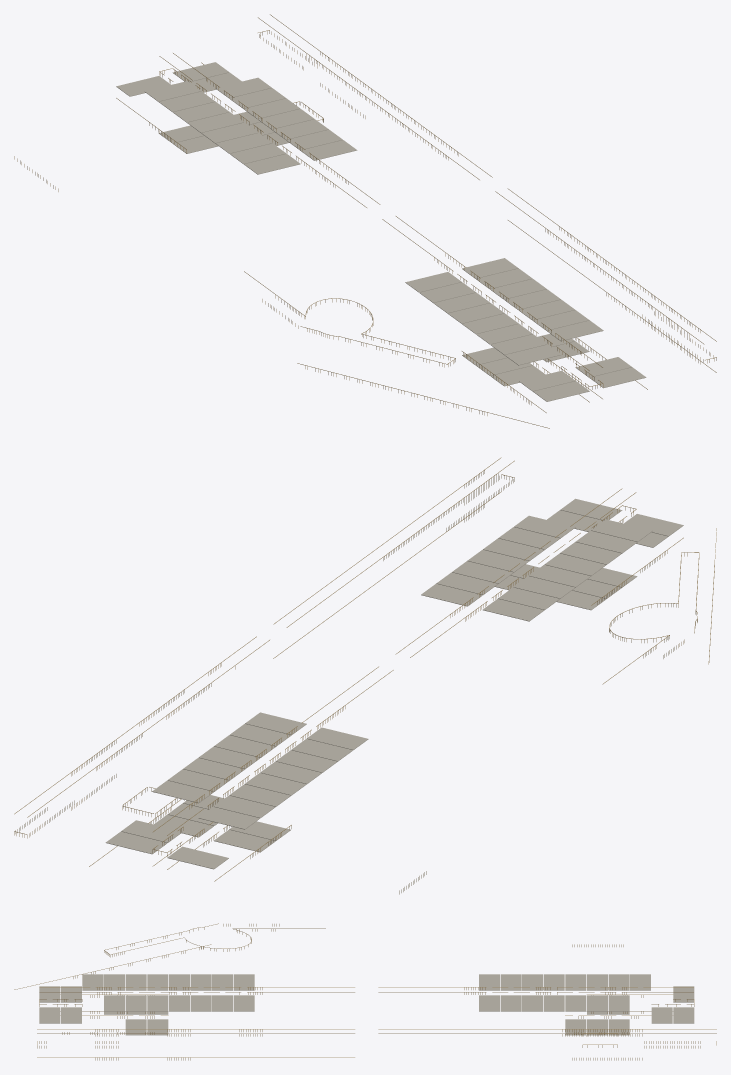
The model's file is Sunset47Receiving_r001.glb.
3 views of the same model, one above another, from view 1: azimuth 30°, elevation 25°; view 2: azimuth 150°, elevation 25°; view 3: azimuth 270°, elevation 25° (orthographic). The views are drawn at different scales.
Parts seen in each view (by area): view 1: SC_Batch_210, SC_Batch_203, SC_Batch_177, SC_Batch_209; view 2: SC_Batch_210, SC_Batch_203, SC_Batch_169, SC47_Bearing_390, SC47_Bearing_420, SC47_Bearing_408, SC47_Bearing_146, SC47_Bearing_564, SC47_Bearing_480, SC47_Bearing_450, SC47_Bearing_474, SC47_Bearing_558 (+28 smaller); view 3: SC_Batch_210, SC_Batch_203, SC_Batch_177, SC_Batch_169, SC_Batch_178, SC_Batch_209, SC47_Bearing_384, SC47_Bearing_396, SC47_Bearing_576, SC47_Bearing_528, SC47_Bearing_540, SC47_Bearing_504 (+36 smaller).
Boxes of the visible parts, x1,y1,x2,y2 form: SC_Batch_210: (319,188,716,370); SC_Batch_203: (159,14,492,207); SC_Batch_177: (297,327,700,428); SC_Batch_209: (244,227,605,334); SC_Batch_210: (273,457,699,657); SC_Batch_203: (14,636,393,835); SC_Batch_169: (71,774,426,894); SC47_Bearing_390: (105,831,167,854); SC47_Bearing_420: (421,583,482,606); SC47_Bearing_408: (483,598,544,621); SC47_Bearing_146: (214,829,275,852); SC47_Bearing_564: (514,515,575,538); SC47_Bearing_480: (529,564,590,587); SC47_Bearing_450: (275,750,337,772); SC47_Bearing_474: (260,761,321,784); SC47_Bearing_558: (152,780,213,803); SC_Batch_210: (37,927,354,1036); SC_Batch_203: (378,987,716,1036); SC_Batch_177: (14,944,211,1060); SC_Batch_169: (565,944,672,1060); SC_Batch_178: (37,947,354,1060); SC_Batch_209: (205,923,325,1036); SC47_Bearing_384: (39,986,60,1002); SC47_Bearing_396: (39,1007,60,1023); SC47_Bearing_576: (82,974,103,990); SC47_Bearing_528: (125,974,146,990); SC47_Bearing_540: (125,995,146,1011); SC47_Bearing_504: (147,974,168,990).
Bounding box in the file's own units: 91.72 × 10.38 × 241.
Materials: 2 (1 with a texture image).
